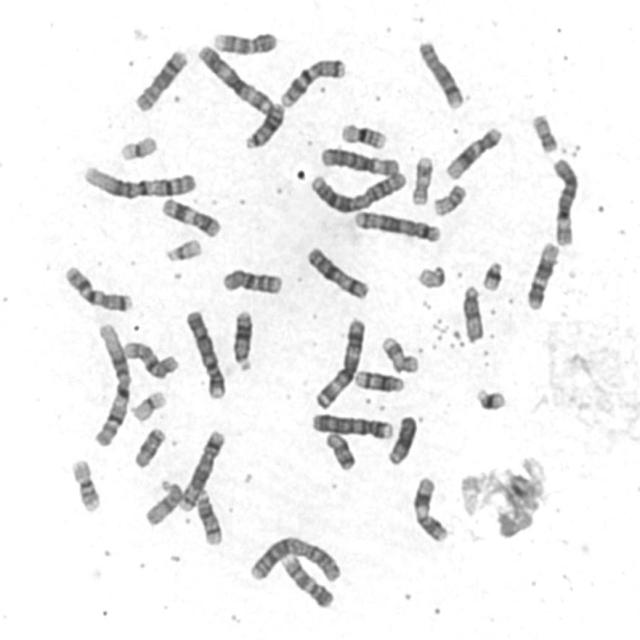A1: (89, 319, 133, 448), (79, 160, 199, 201)
A2: (245, 531, 344, 584), (306, 166, 409, 214)
A3: (192, 40, 276, 116), (312, 314, 367, 411)
B4: (182, 305, 228, 401), (307, 409, 395, 441)
B5: (175, 426, 227, 514), (350, 206, 442, 244)
C10: (120, 336, 181, 381), (219, 265, 284, 296)
C11: (158, 193, 222, 240), (409, 472, 450, 544)
C12: (443, 123, 504, 181), (523, 238, 561, 312)
C6: (548, 153, 581, 247), (316, 143, 402, 177)
C7: (60, 260, 134, 314), (276, 54, 348, 108)
C8: (130, 44, 190, 114), (414, 36, 466, 111)
C9: (278, 549, 336, 610), (208, 26, 279, 56)
D13: (240, 98, 286, 150), (228, 306, 255, 372)
D14: (191, 487, 225, 547), (351, 366, 406, 394)
D15: (140, 475, 185, 528), (458, 281, 486, 344)
E16: (67, 454, 102, 514), (337, 119, 389, 151)
E17: (378, 332, 420, 375), (408, 152, 434, 208)
E18: (129, 423, 167, 470), (321, 429, 358, 472)
F19: (127, 386, 169, 423), (116, 131, 159, 163)
F20: (429, 180, 468, 218), (527, 110, 560, 154)
G21: (472, 383, 508, 412), (478, 256, 506, 293)
G22: (162, 235, 204, 263), (414, 261, 448, 290)
X: (303, 242, 371, 302)
